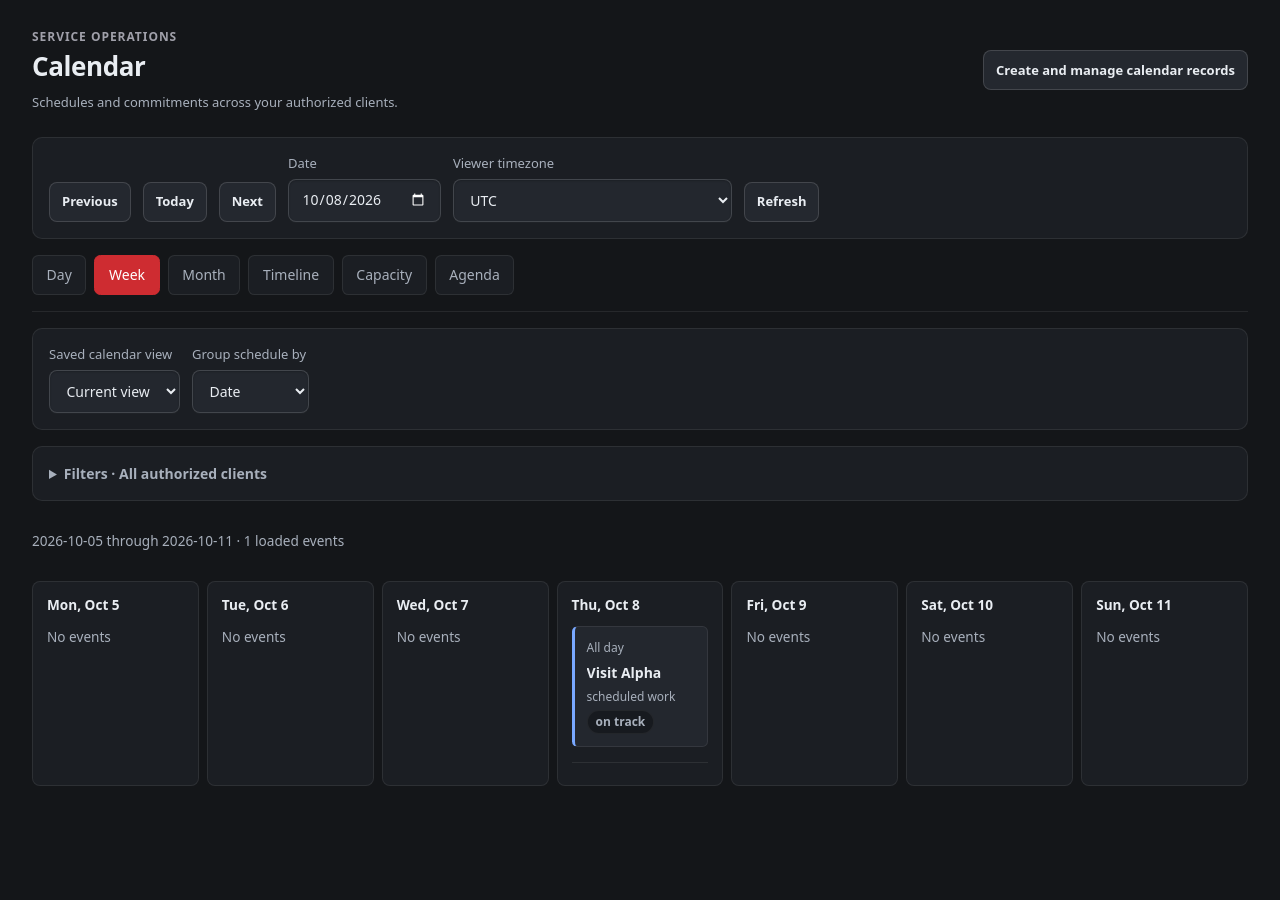
does not turn failed capacity into a successful empty view
Expected: the button "All day Visit Alpha scheduled work on track" is shown, [572,626,708,747]
Click the button with aria-label "Capacity view" at (384, 275), box [342,254,427,295]
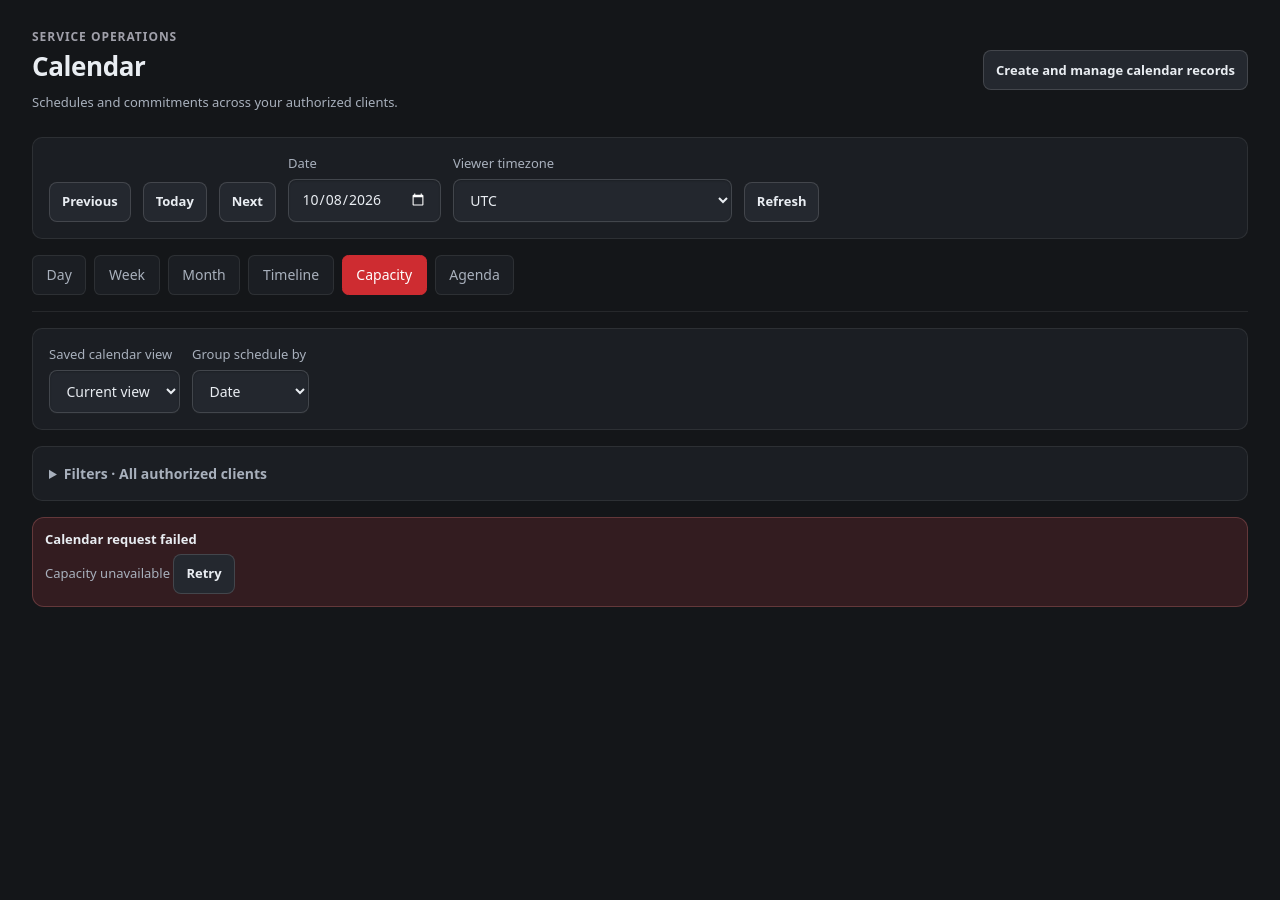
Now the text "Capacity unavailable" is shown, box [45,564,170,582]
